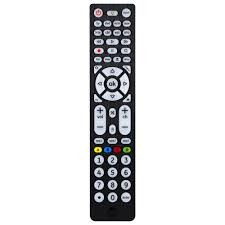remote control: (88, 7, 135, 221)
